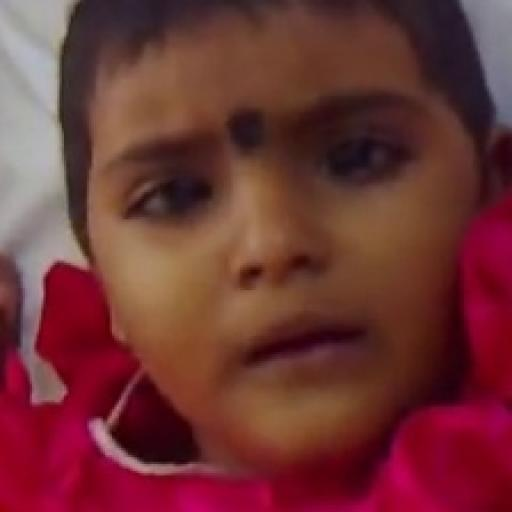Autism: (64, 8, 506, 461)
